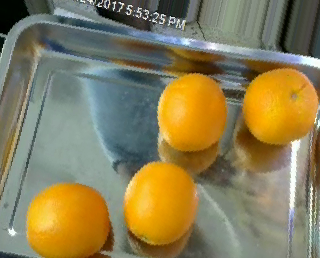Orange: (26, 182, 110, 258), (124, 161, 198, 245), (243, 67, 319, 145), (157, 72, 227, 152)
